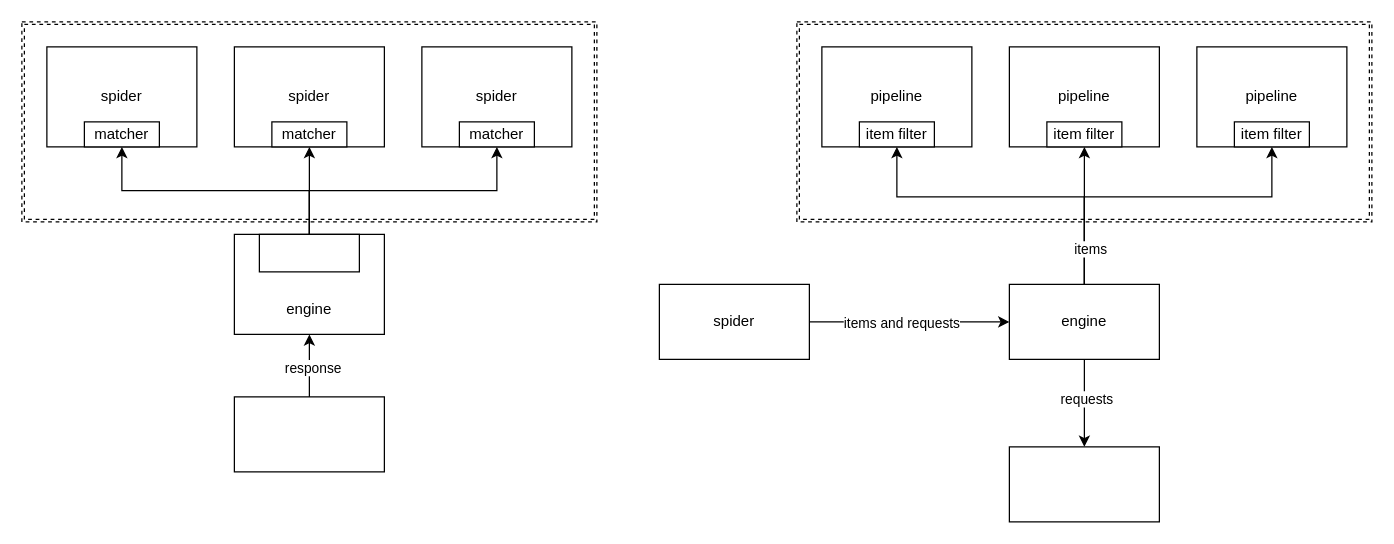
Image size: 1394x544. Some labels were removed from this diagram. The box of each missing label's shape, as (x1, y1, x2, y2) in pixels:
downloader: (233, 396, 384, 472)
response distributor: (258, 233, 359, 272)
scheduler: (1008, 446, 1159, 522)
